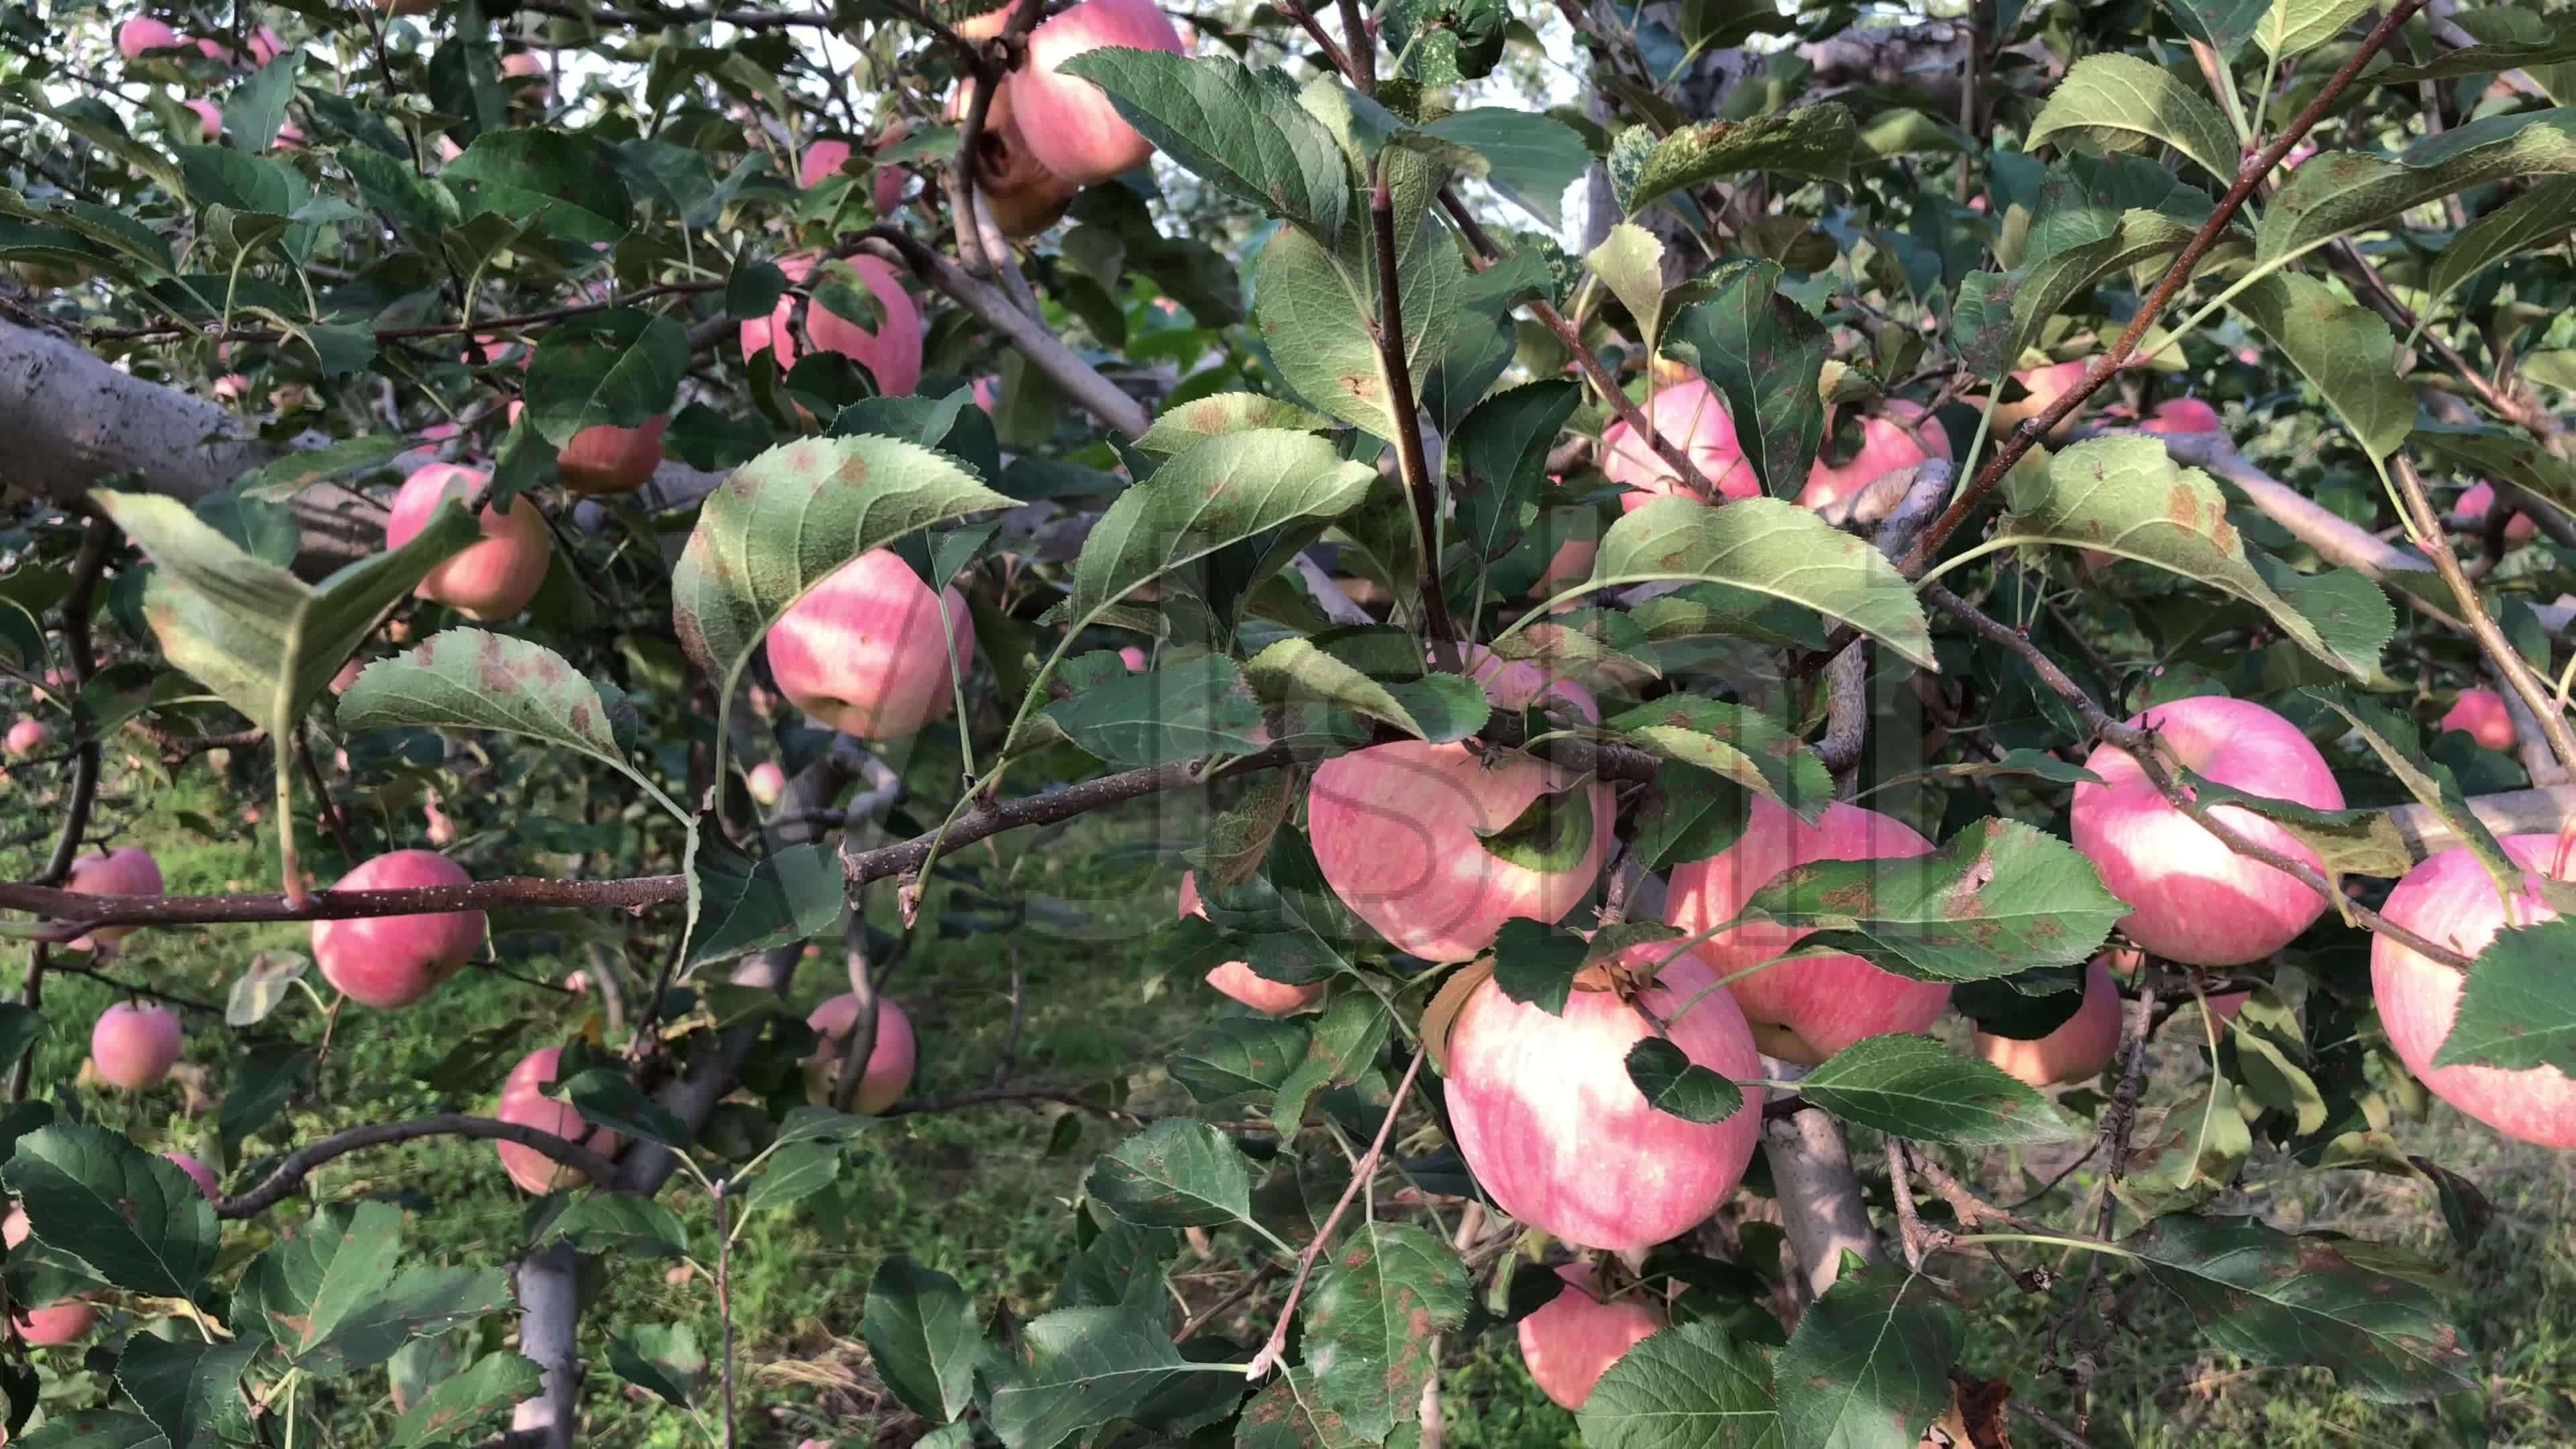apple: (1435, 929, 1766, 1253), (1307, 640, 1621, 959), (1660, 805, 1960, 1077), (763, 545, 980, 740), (1007, 0, 1189, 189), (313, 853, 492, 1014), (386, 460, 552, 617), (768, 257, 929, 412), (554, 419, 667, 494), (92, 1000, 184, 1088), (69, 847, 166, 902)
